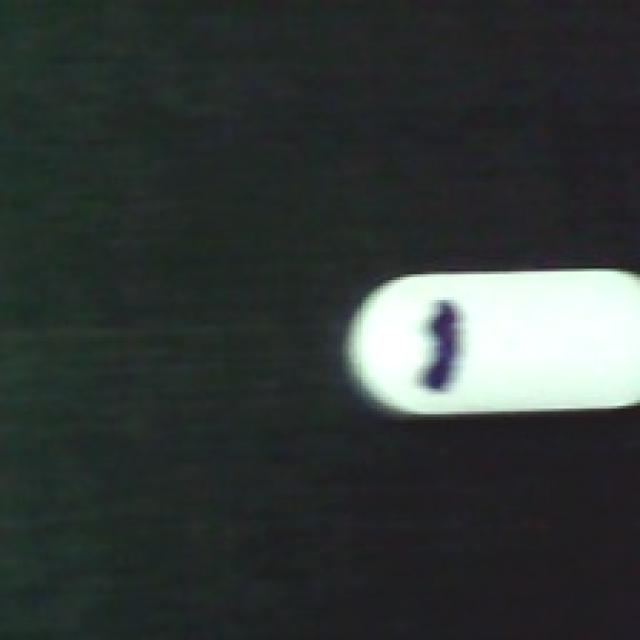defected: (343, 254, 640, 423)
